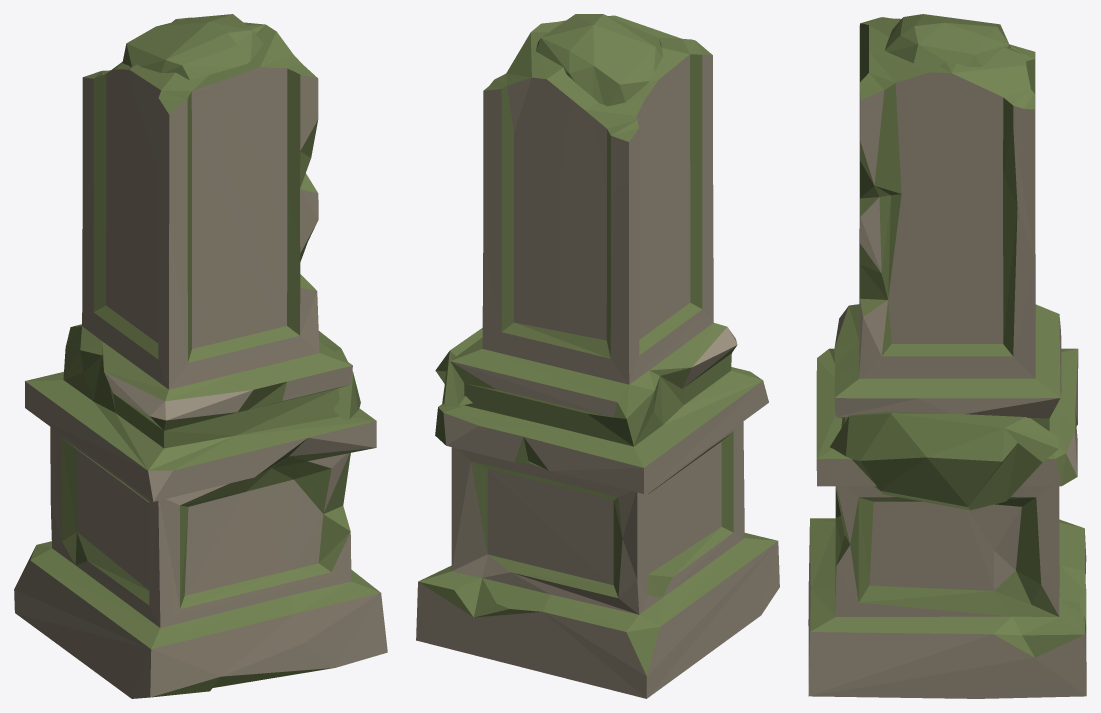
Rendered from SM_Prop_Pillar_Broken_Moss_02.glb.
The picture shows the model from 3 angles, left to right: view 1: azimuth 30°, elevation 25°; view 2: azimuth 150°, elevation 25°; view 3: azimuth 270°, elevation 25°; orthographic projection. The views are drawn at different scales.
Parts seen in each view (by area): view 1: SM_Prop_Pillar_Broken_Moss_02; view 2: SM_Prop_Pillar_Broken_Moss_02; view 3: SM_Prop_Pillar_Broken_Moss_02.
Part boxes in pixels (x1,y1,x2,y2): SM_Prop_Pillar_Broken_Moss_02: [14, 14, 387, 698]; SM_Prop_Pillar_Broken_Moss_02: [416, 14, 779, 698]; SM_Prop_Pillar_Broken_Moss_02: [808, 14, 1086, 698].
Bounding box in the file's own units: 0.6912 × 1.56 × 0.6337.
Materials: 1 (1 with a texture image).
